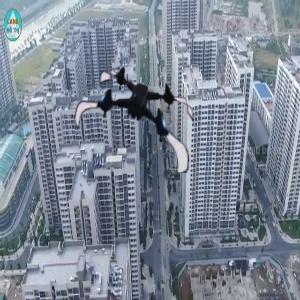drone: (73, 52, 198, 177)
